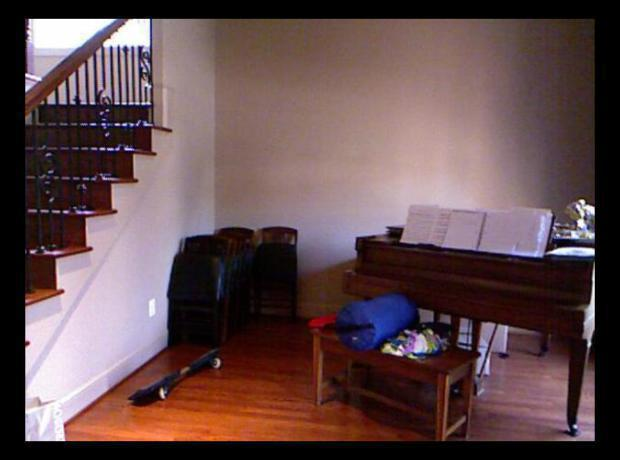Escaleras: (25, 29, 195, 413)
Otro Obstaculo: (123, 337, 229, 417)
